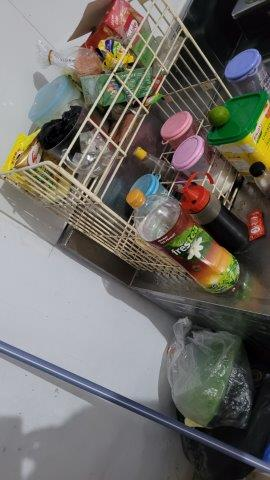botolplastik: (126, 189, 243, 295)
